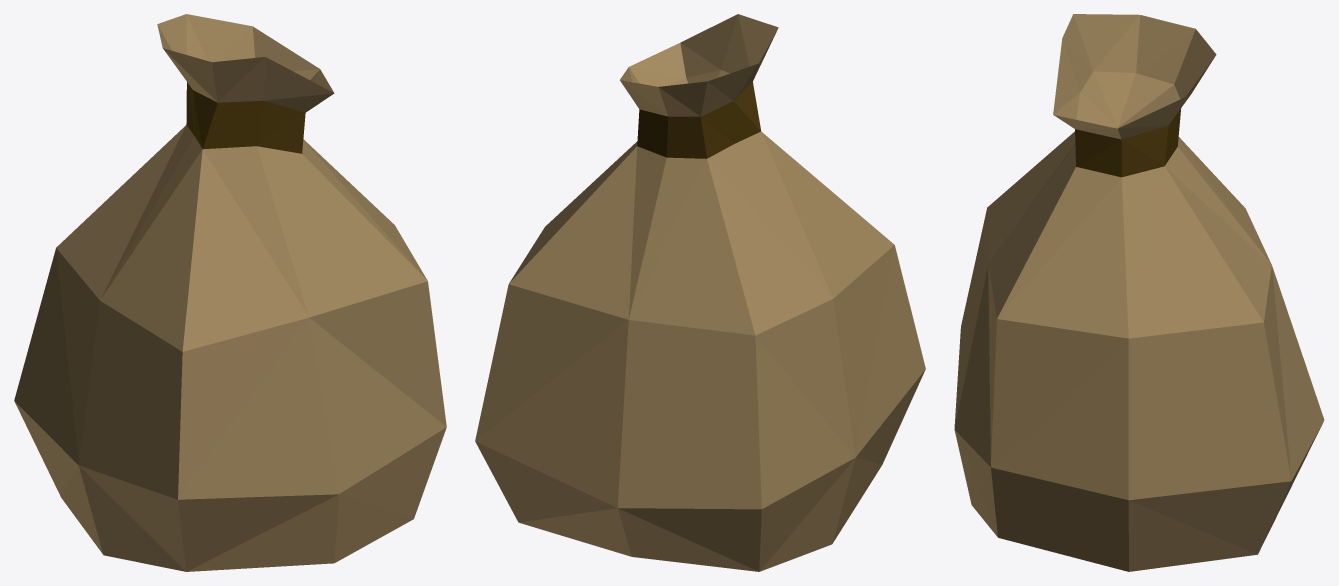
Rendered from Bag.fbx.
3 renders of one model, left to right at view 1: azimuth 30°, elevation 25°; view 2: azimuth 150°, elevation 25°; view 3: azimuth 270°, elevation 25°, orthographic. The views are drawn at different scales.
Parts seen in each view (by area): view 1: Cube.017; view 2: Cube.017; view 3: Cube.017.
Boxes of the visible parts, x1,y1,x2,y2 form: Cube.017: (14,14,446,571); Cube.017: (475,14,925,571); Cube.017: (954,14,1324,571).
Size of the model in its own units: 283 by 397 by 275.
